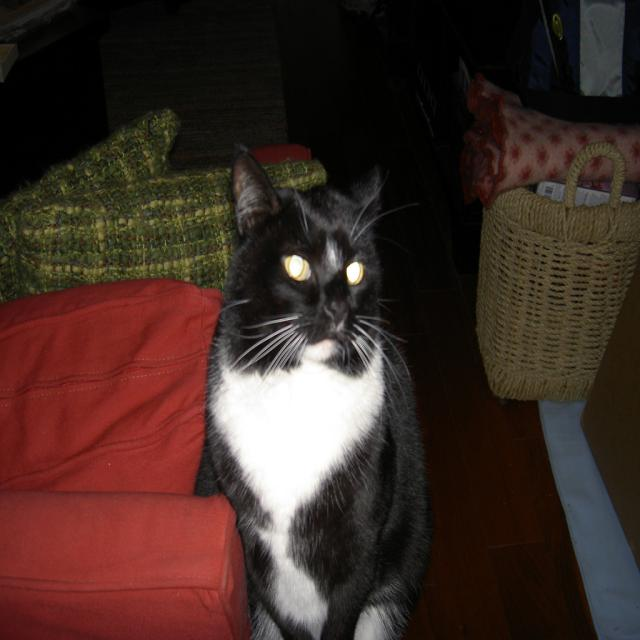cat: (195, 143, 434, 639)
